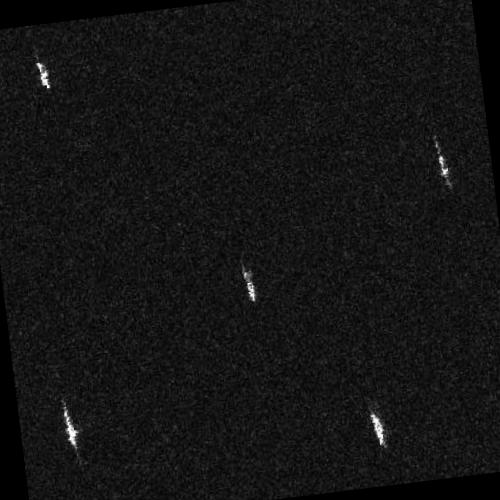ship: (61, 400, 80, 450), (239, 264, 257, 303), (368, 412, 386, 448), (33, 60, 51, 90), (435, 147, 450, 183)
